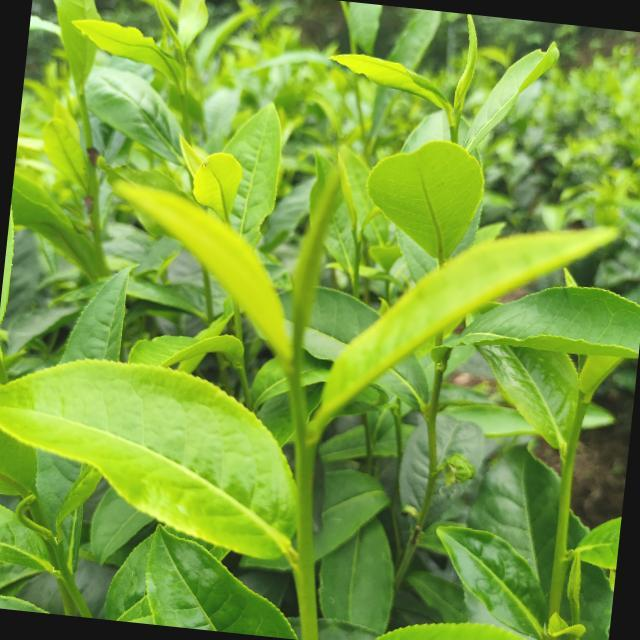Stem: (561, 452, 574, 468), (287, 372, 300, 385), (450, 126, 458, 136)
